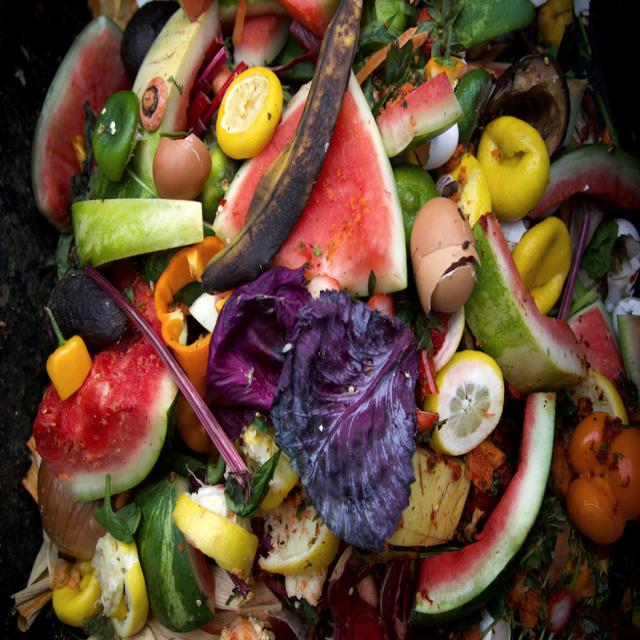Food -Biodegradable-: (3, 0, 640, 640)
